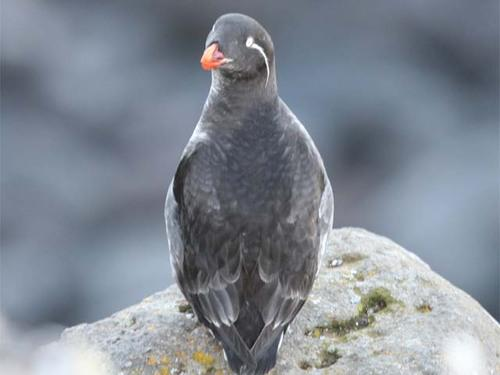007.Parakeet_Auklet: (164, 12, 337, 375)
